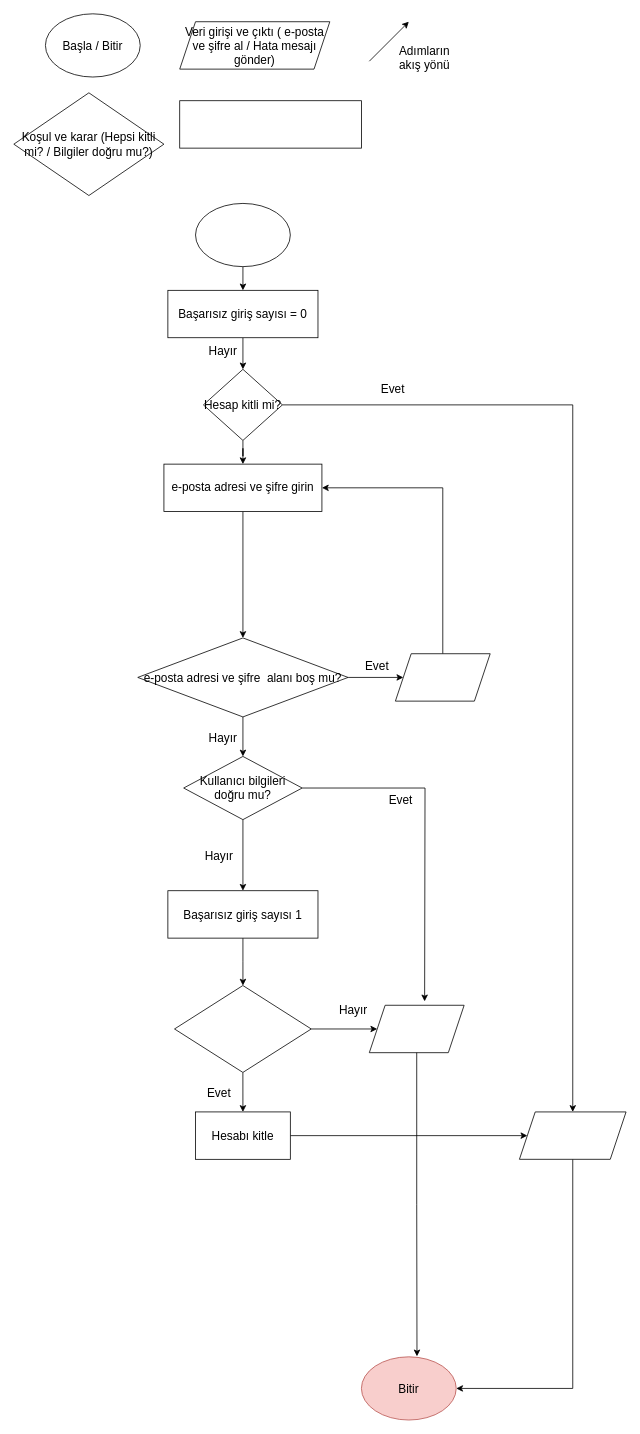
The diagram is 640 pixels wide and 1434 high, and some of its shapes have lost their labels. The centre of each missing label's shape, as x and y in pixels:
BAŞLA: the point at 242,235
Giriş başarılı: the point at 416,1028
Hesap geçici olarak bloke oldu: the point at 572,1135
İşlem veya değişken güncelleme (Başarısız giriş sayısını 1 arttır): the point at 270,124
Kullanıcı alanlarını doldururunuz: the point at 442,677
Sayaç 3' e ulaştı mı?: the point at 242,1028
